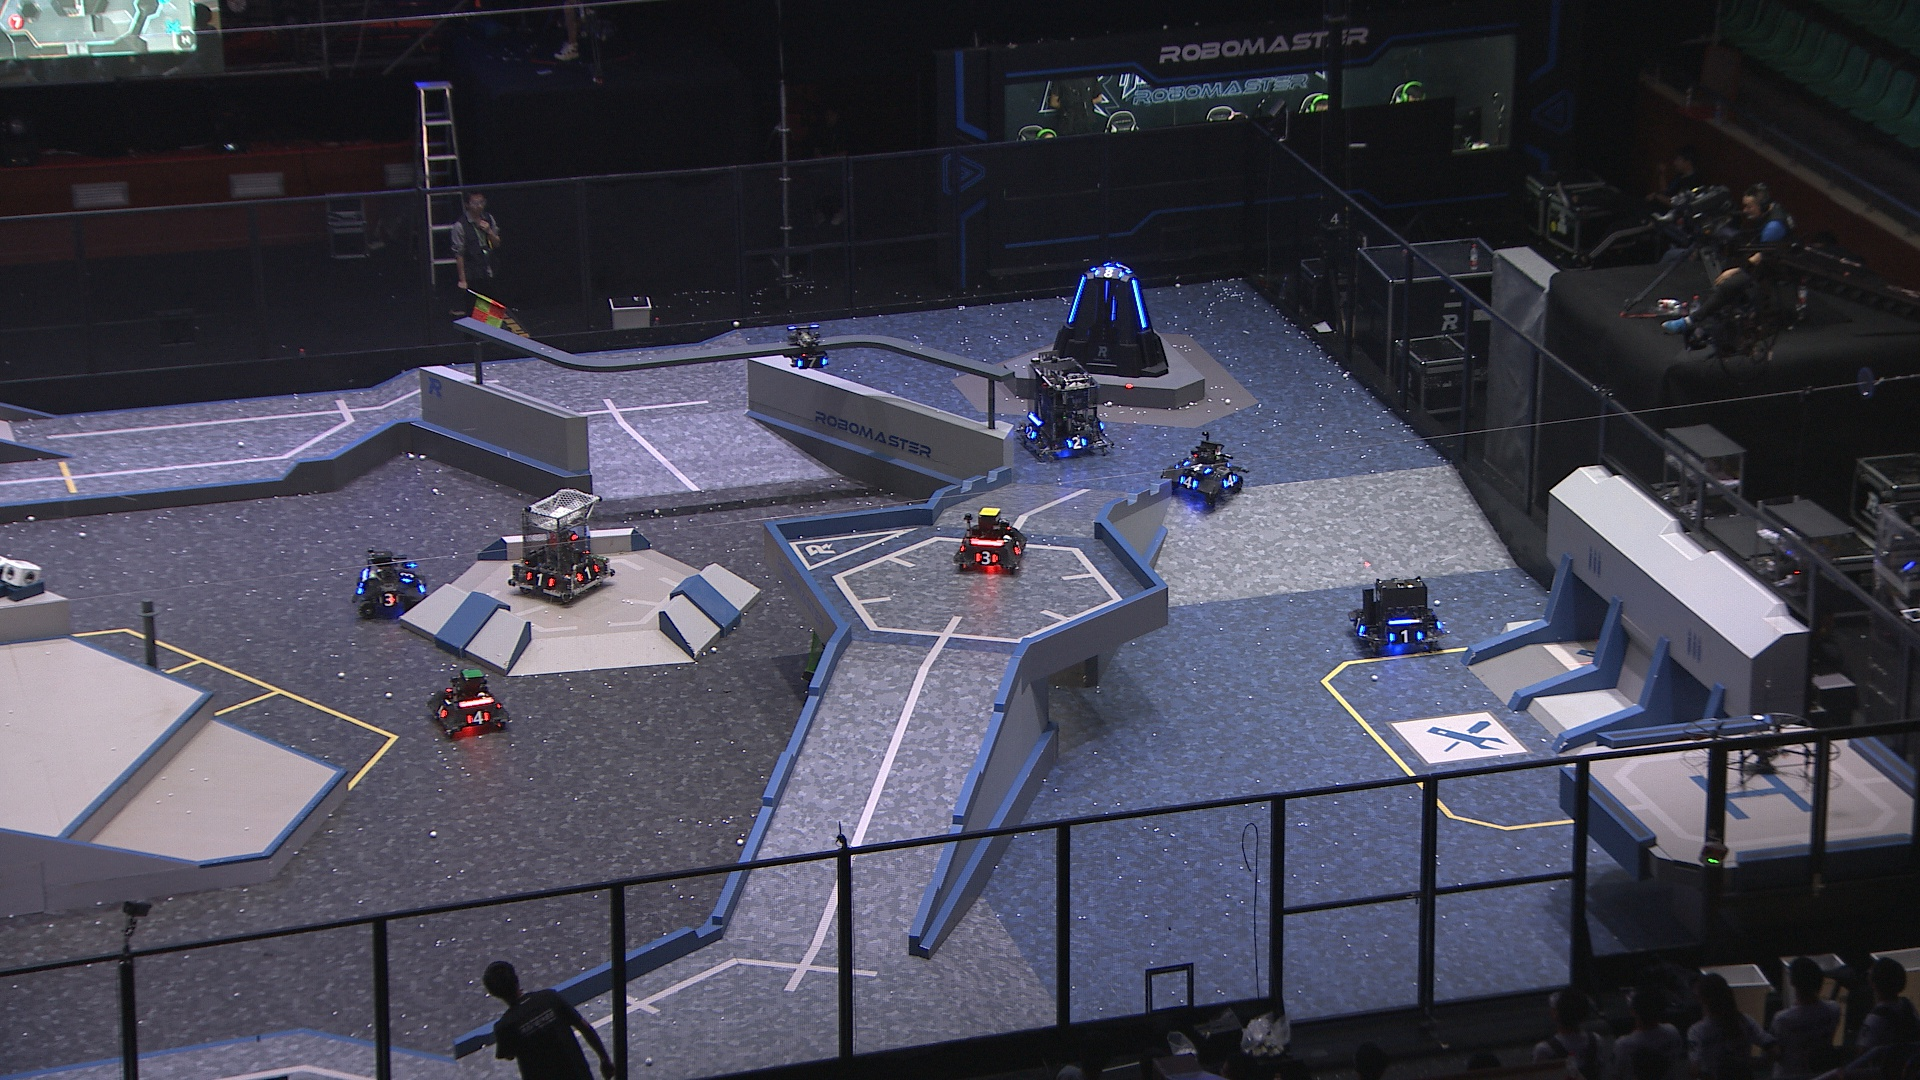armor: (1064, 273, 1088, 327), (1129, 278, 1150, 330), (1386, 626, 1427, 644), (524, 568, 556, 588), (572, 562, 603, 583), (1182, 458, 1212, 476), (465, 707, 491, 727), (795, 356, 827, 371), (1093, 266, 1125, 280), (376, 591, 400, 608), (973, 550, 998, 566), (1352, 615, 1367, 638), (1178, 475, 1200, 491), (1067, 436, 1091, 451), (1221, 472, 1238, 491), (398, 567, 417, 583), (1021, 425, 1039, 440), (1101, 278, 1112, 305), (1011, 537, 1025, 555), (433, 704, 448, 719)
base: (1044, 262, 1168, 377)
car: (509, 487, 617, 604), (1013, 351, 1116, 462), (1346, 574, 1448, 654), (1158, 436, 1247, 510), (425, 669, 508, 740), (953, 505, 1029, 575), (352, 549, 429, 617)
watcher: (785, 323, 829, 371)
